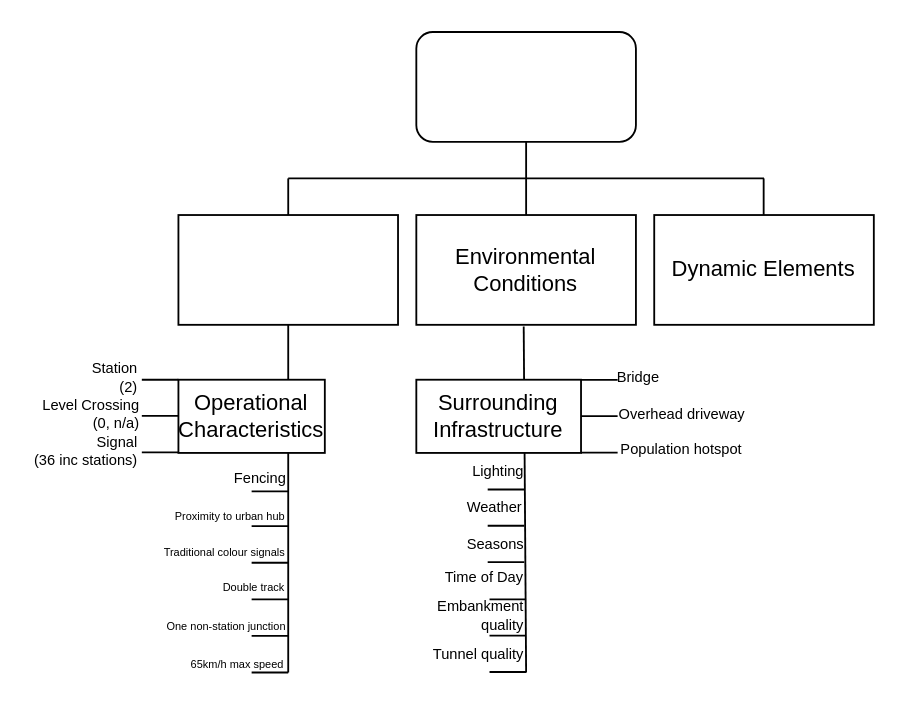
Image size: 906x723. Some labels were removed from this diagram. The shapes that lost their labels are listed below. From the top down, each one's centre as x and y in pixels, then its label:
the point at 525,86: ODM
the point at 287,269: Physical Infrastructure
